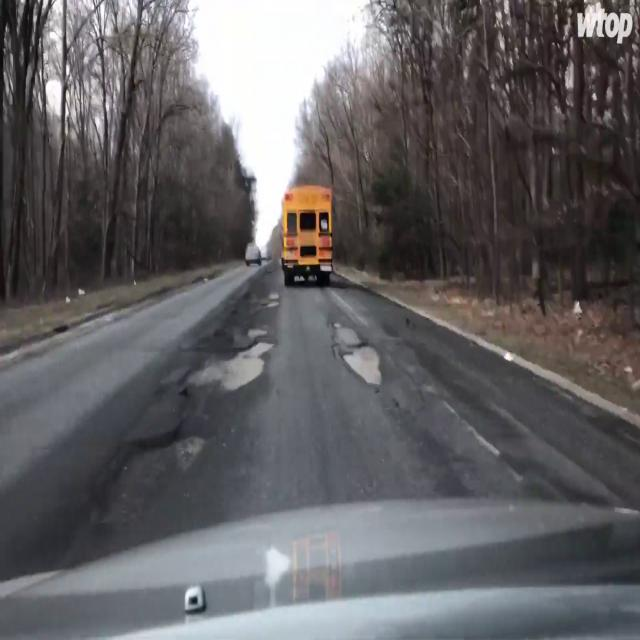Pothole: (82, 429, 213, 525), (180, 341, 276, 394), (340, 342, 386, 388), (246, 328, 268, 338), (261, 300, 280, 308)
